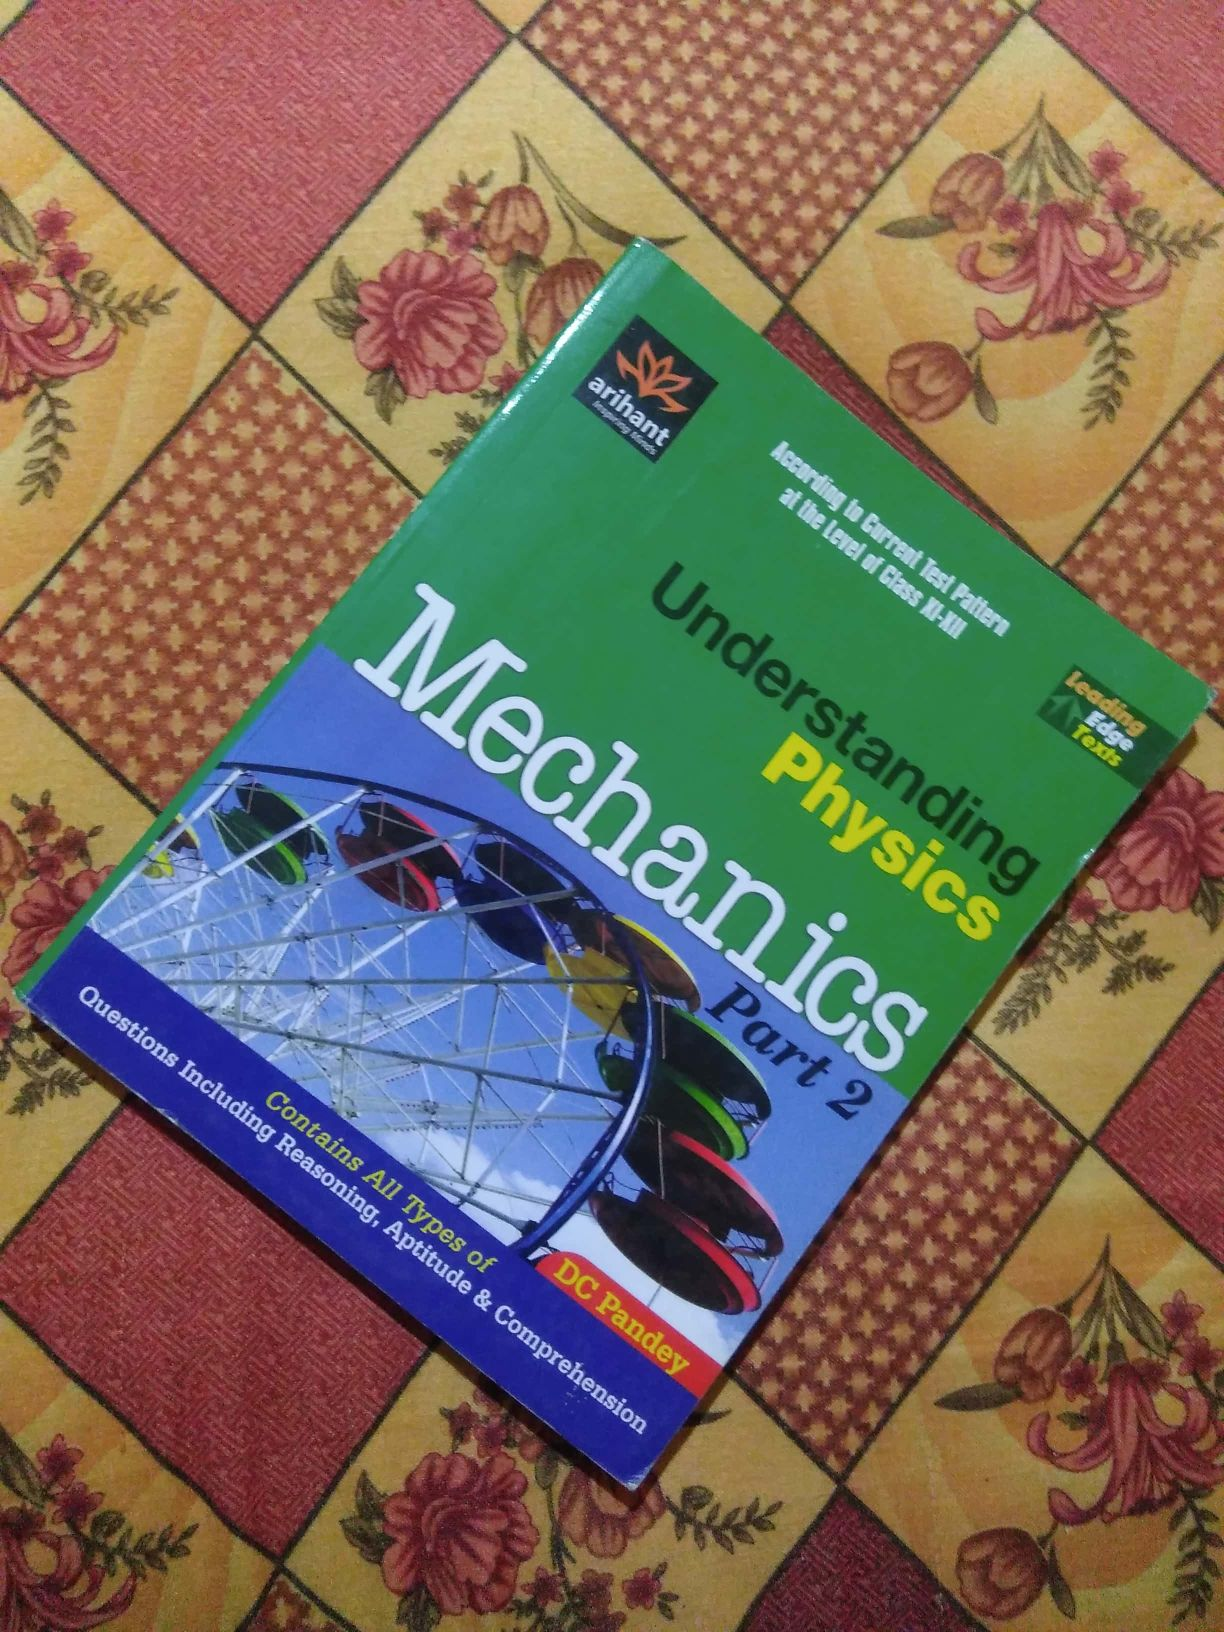mechanics: (129, 249, 1175, 1423)
